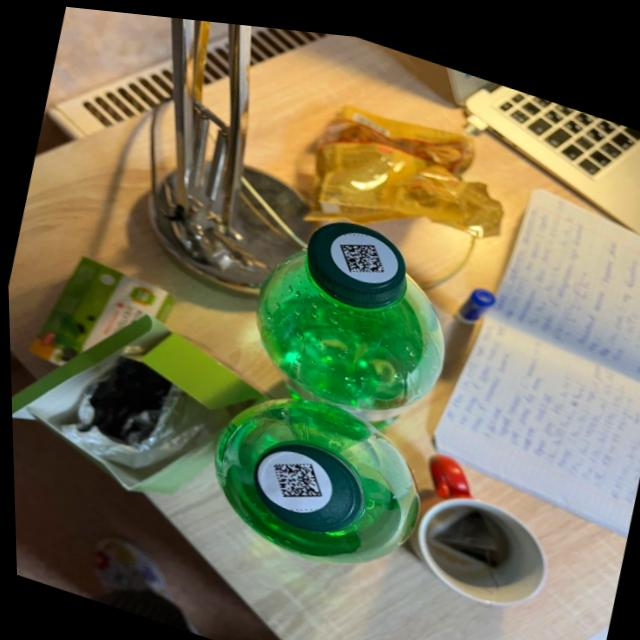datamatrix: (264, 445, 329, 505), (333, 225, 391, 276)
